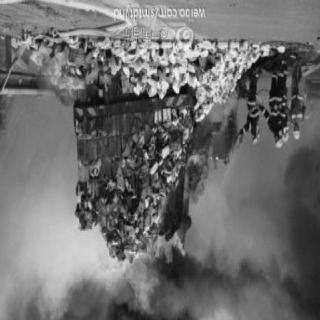Smoke: (189, 168, 318, 320)
other: (250, 124, 300, 154), (288, 58, 304, 126)
